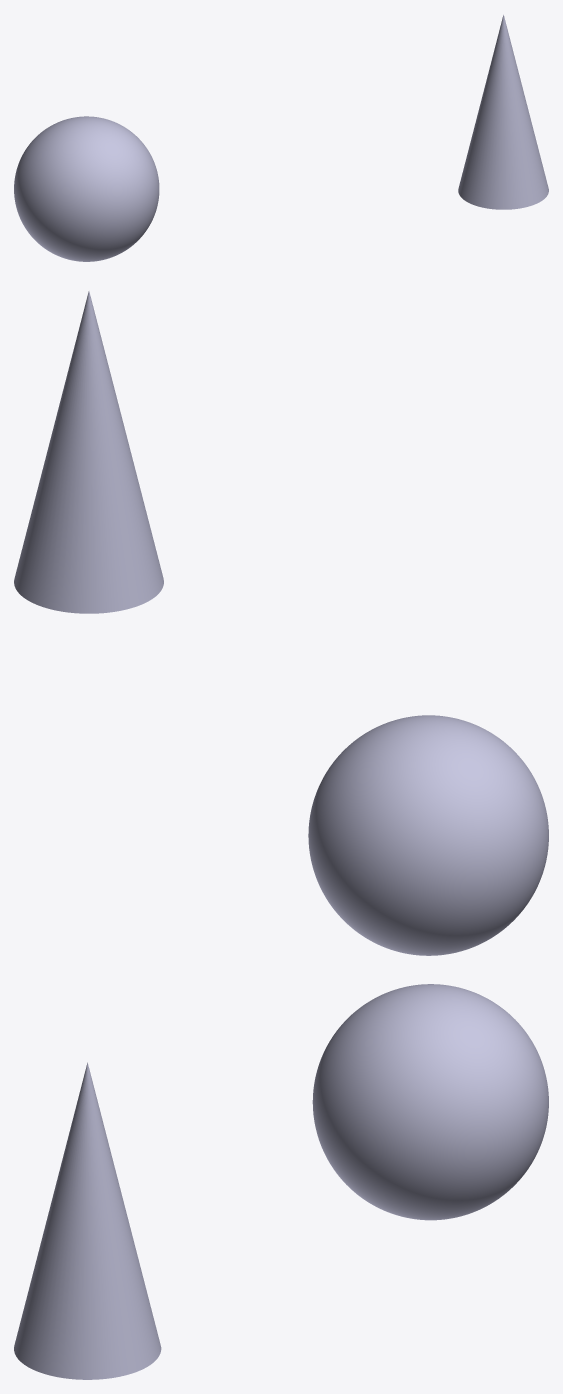
File: glTF-Converter.glb
The picture shows the model from 3 angles, top to bottom: view 1: azimuth 30°, elevation 25°; view 2: azimuth 150°, elevation 25°; view 3: azimuth 270°, elevation 25°; orthographic projection. The views are drawn at different scales.
Parts seen in each view (by area): view 1: no_transformations; view 2: no_transformations; view 3: no_transformations.
Boxes of the visible parts, x1,y1,x2,y2 form: no_transformations: (14,15,548,261); no_transformations: (14,291,548,955); no_transformations: (14,984,548,1379).
Size of the model in its own units: 15.32 by 8.59 by 10.58.
